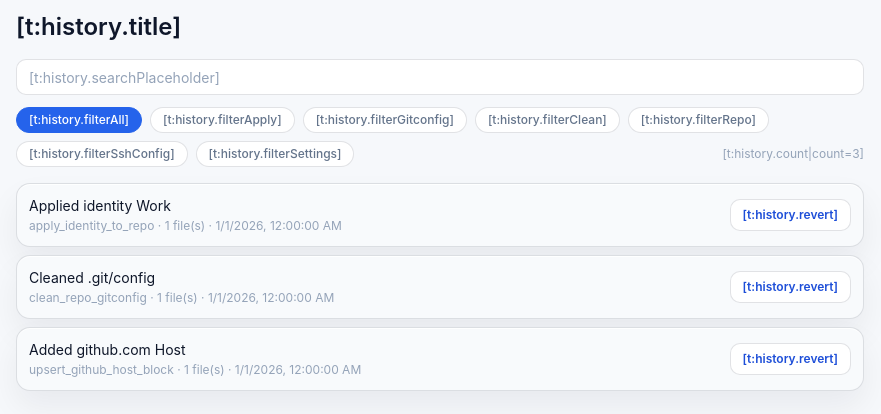
Test case: HistoryView › filters by free-text query against summary
The image size is (881, 414).
Expected: the text "Applied identity Work" is shown, [29,197,171,214]
In the search field with placeholder "[t:history.searchPlaceholder]": point(440, 77) [16,59,864,95], type "github"
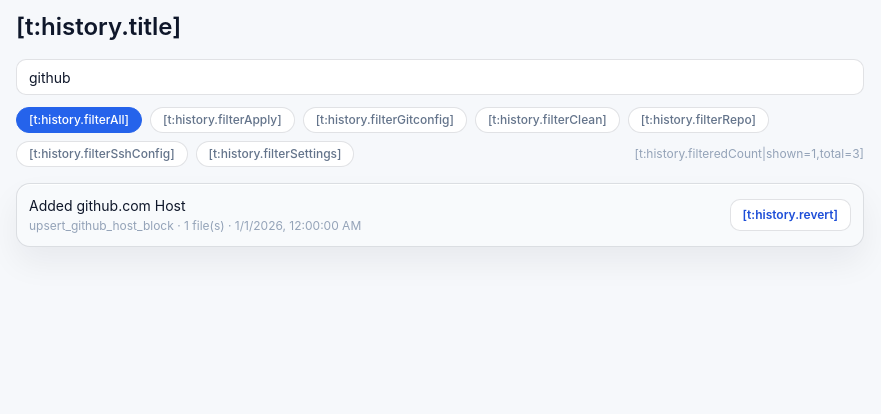
Expected: the text "Added github.com Host" is shown, [29,197,186,214]
Result: the text "Applied identity Work" is gone
